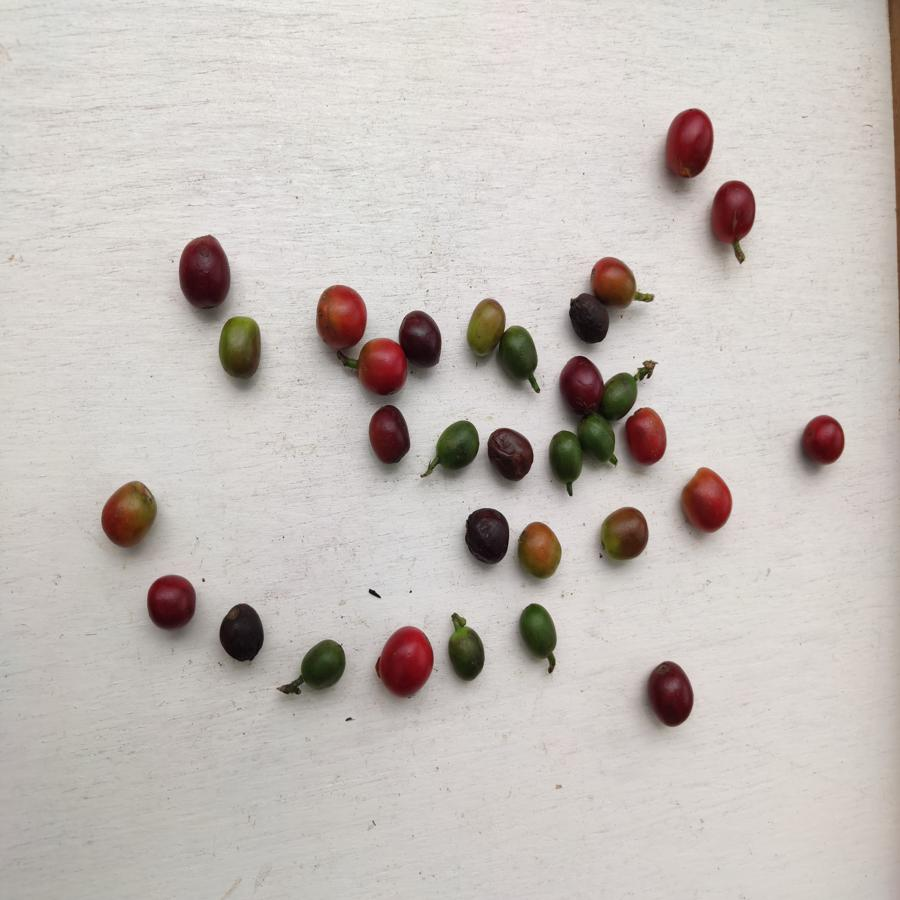Inmaduro: (432, 417, 480, 472), (517, 603, 563, 658), (296, 637, 345, 687), (548, 429, 586, 484), (578, 415, 620, 463), (604, 372, 636, 418)
Maduro: (376, 624, 436, 698), (313, 281, 367, 347), (682, 466, 734, 534), (665, 105, 713, 178), (708, 180, 759, 246), (351, 338, 407, 393), (798, 411, 850, 468), (626, 407, 670, 467)
Pinton: (99, 480, 159, 546), (215, 316, 269, 380), (595, 504, 650, 563), (516, 518, 567, 580), (590, 254, 643, 302), (467, 296, 500, 363)
Sobremaduro: (178, 234, 230, 312), (146, 572, 197, 632), (648, 660, 694, 726), (485, 424, 536, 481), (216, 602, 264, 662), (560, 355, 605, 417), (367, 402, 411, 465), (463, 506, 510, 562), (402, 307, 443, 369), (567, 292, 614, 346)
